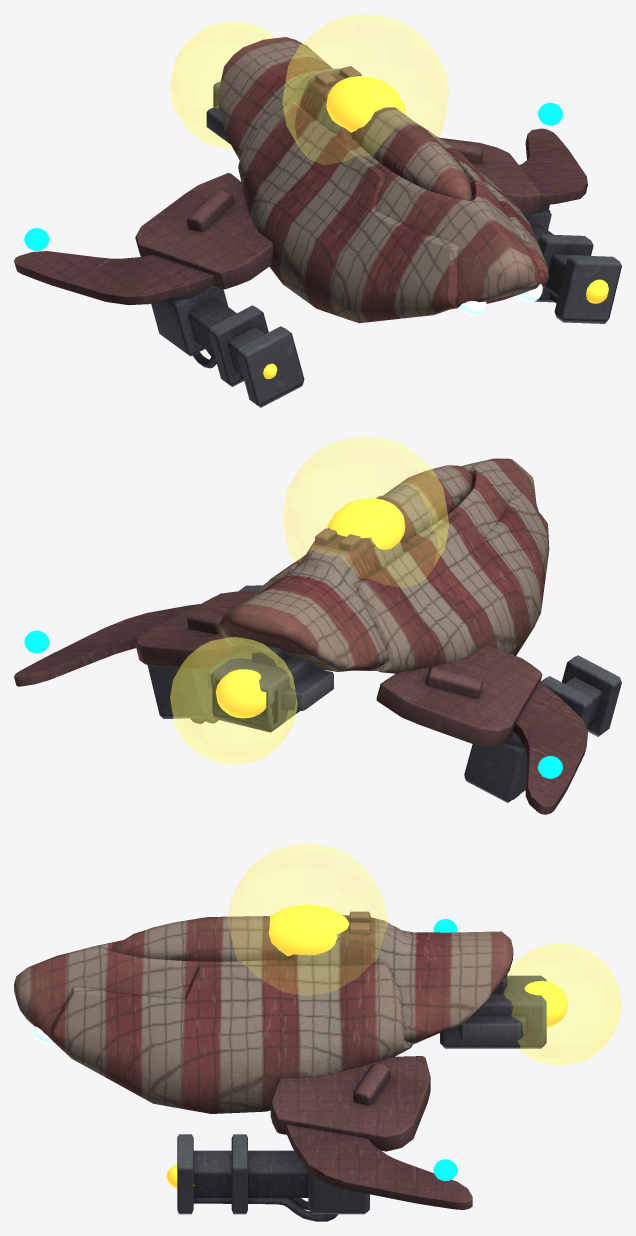
Rendered from enemy_scout_kit.glb.
3 renders of one model, top to bottom at view 1: azimuth 30°, elevation 25°; view 2: azimuth 150°, elevation 25°; view 3: azimuth 270°, elevation 25°, orthographic. The views are drawn at different scales.
Visible parts, largest first — view 1: Ship_enemy_06_Hull, Sphere.001, Ship_enemy_06_Wing_R, Ship_enemy_06_Weapon_R, Ship_enemy_06_Wing_L, Ship_enemy_06_Weapon_L, Sphere.009, Sphere, Ship_enemy_06_Engine; view 2: Ship_enemy_06_Hull, Sphere.001, Ship_enemy_06_Wing_R, Sphere.009, Ship_enemy_06_Wing_L, Ship_enemy_06_Weapon_R, Ship_enemy_06_Engine, Ship_enemy_06_Weapon_L, Sphere, Sphere.008; view 3: Ship_enemy_06_Hull, Sphere.001, Ship_enemy_06_Wing_L, Sphere.009, Ship_enemy_06_Weapon_L, Ship_enemy_06_Engine, Sphere, Sphere.008.
Part boxes in pixels (x1,y1,x2,y2): Ship_enemy_06_Hull: (217,37,549,323); Sphere.001: (282,14,448,164); Ship_enemy_06_Wing_R: (14,173,273,304); Ship_enemy_06_Weapon_R: (151,285,304,407); Ship_enemy_06_Wing_L: (439,128,587,214); Ship_enemy_06_Weapon_L: (524,204,621,323); Sphere.009: (170,21,275,149); Sphere: (326,76,405,132); Ship_enemy_06_Engine: (206,81,230,144); Ship_enemy_06_Hull: (217,458,549,673); Sphere.001: (282,436,448,587); Ship_enemy_06_Wing_R: (376,645,587,814); Sphere.009: (170,637,297,764); Ship_enemy_06_Wing_L: (14,590,256,686); Ship_enemy_06_Weapon_R: (464,655,621,802); Ship_enemy_06_Engine: (206,642,333,732); Ship_enemy_06_Weapon_L: (147,585,262,723); Sphere: (327,498,405,549); Sphere.008: (216,669,266,718); Ship_enemy_06_Hull: (14,911,513,1113); Sphere.001: (228,843,387,994); Ship_enemy_06_Wing_L: (270,1056,472,1209); Sphere.009: (504,943,621,1065); Ship_enemy_06_Weapon_L: (177,1134,369,1221); Ship_enemy_06_Engine: (440,974,546,1048); Sphere: (268,904,349,956); Sphere.008: (524,981,568,1027).
Size of the model in its own units: 2.2 by 1.21 by 2.25.
6 materials, 1 textured.
